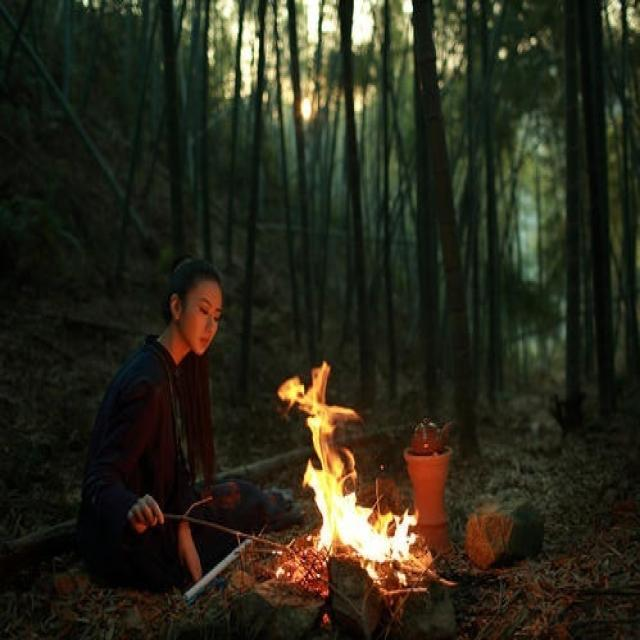Fire: (276, 358, 420, 586)
